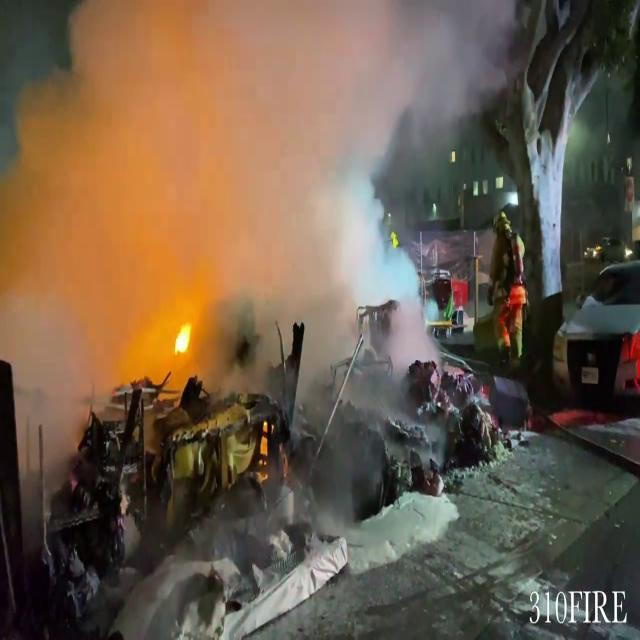Fire: (167, 314, 197, 366)
Smoke: (0, 0, 439, 443)
